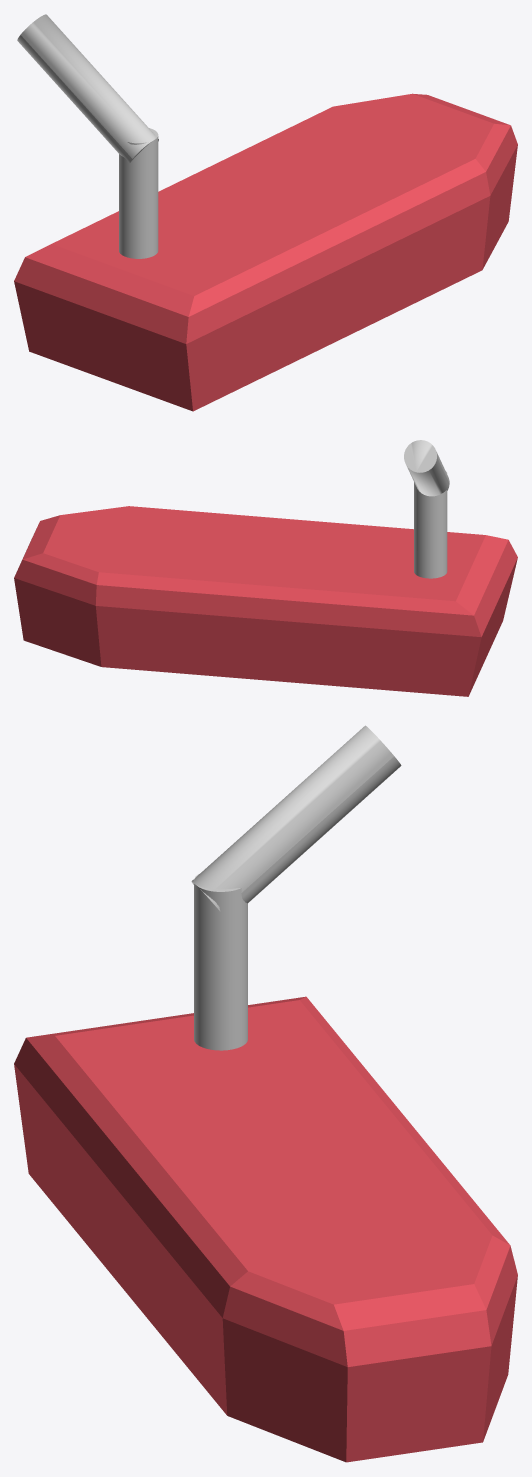
File: Blusboot_Simple.fbx
3 views of the same model, one above another, from view 1: azimuth 30°, elevation 25°; view 2: azimuth 150°, elevation 25°; view 3: azimuth 270°, elevation 25° (orthographic). The views are drawn at different scales.
Parts seen in each view (by area): view 1: Plane.005, Cylinder.017; view 2: Plane.005, Cylinder.017; view 3: Plane.005, Cylinder.017.
Part boxes in pixels (bbox=[...]): Plane.005: bbox=[14, 93, 517, 411]; Cylinder.017: bbox=[17, 14, 158, 258]; Plane.005: bbox=[14, 506, 517, 696]; Cylinder.017: bbox=[404, 440, 449, 578]; Plane.005: bbox=[14, 996, 517, 1462]; Cylinder.017: bbox=[191, 725, 401, 1050].
Size of the model in its own units: 143 by 82.34 by 88.09.
